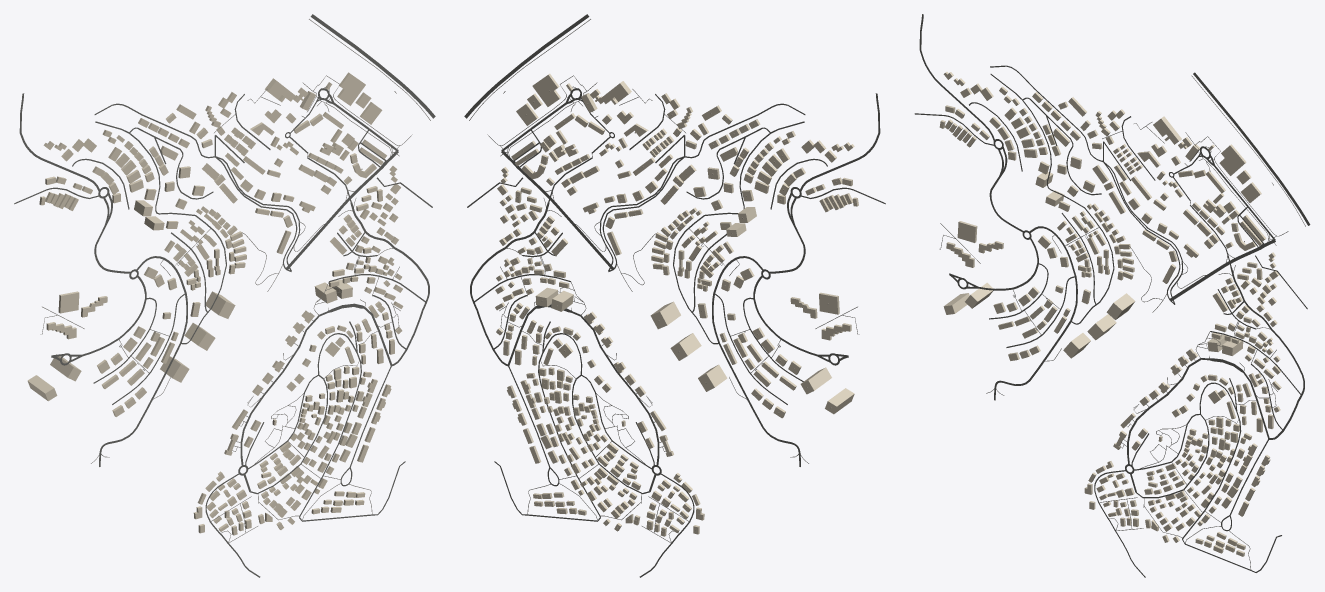
The model's file is historic-palestine-08_33_3504_3276.glb.
The picture shows the model from 3 angles, left to right: view 1: azimuth 30°, elevation 25°; view 2: azimuth 150°, elevation 25°; view 3: azimuth 330°, elevation 25°; orthographic projection. The views are drawn at different scales.
Visible parts, largest first — view 1: Road הלוטם, Road דרך בר יהודה, Building_.002, Road המגינים; view 2: Road הלוטם, Road דרך בר יהודה, Building_.002, Road המגינים; view 3: Road דרך בר יהודה, Road הלוטם.
Part boxes in pixels (x1,y1,x2,y2): Road הלוטם: [99, 256, 187, 466]; Road דרך בר יהודה: [310, 14, 435, 118]; Building_.002: [337, 72, 365, 105]; Road המגינים: [350, 202, 429, 366]; Road הלוטם: [712, 256, 800, 466]; Road דרך בר יהודה: [464, 14, 589, 118]; Building_.002: [532, 73, 560, 106]; Road המגינים: [470, 202, 549, 366]; Road דרך בר יהודה: [1193, 72, 1310, 225]; Road הלוטם: [994, 226, 1077, 400].
Size of the model in its own units: 1118 by 1397 by 83.2.
